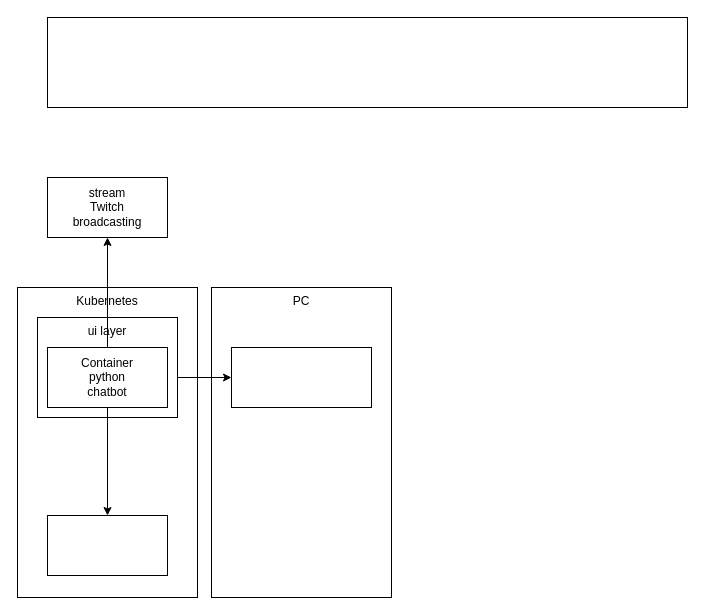
The diagram is 705 pixels wide and 615 high, and some of its shapes have lost their labels. The shapes that lost their labels are listed below. From the top down, each one's box as (x1, y1, x2, y2) in pixels, then its label:
(230, 346, 372, 408): midi layer device requests
(46, 514, 168, 576): midi layer data requests
